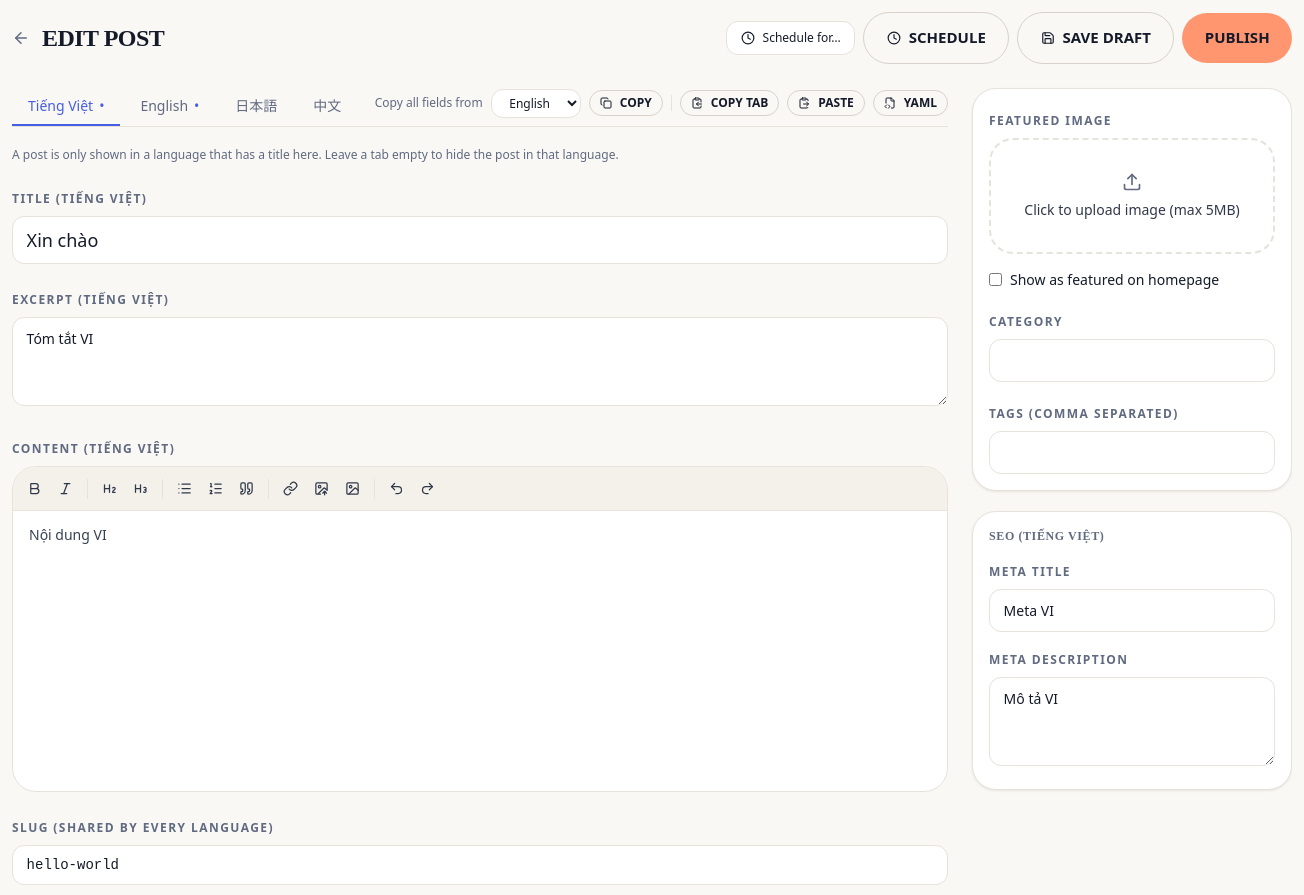
PostEditor clipboard copy/paste › pastes the 5 fields into another tab in one action
This screenshot has width=1304, height=895.
Expected: the field labelled "Title (Tiếng Việt)" holds "Xin chào", [12, 216, 948, 264]
Click the button "English•".
click(170, 107)  # box [124, 88, 215, 126]
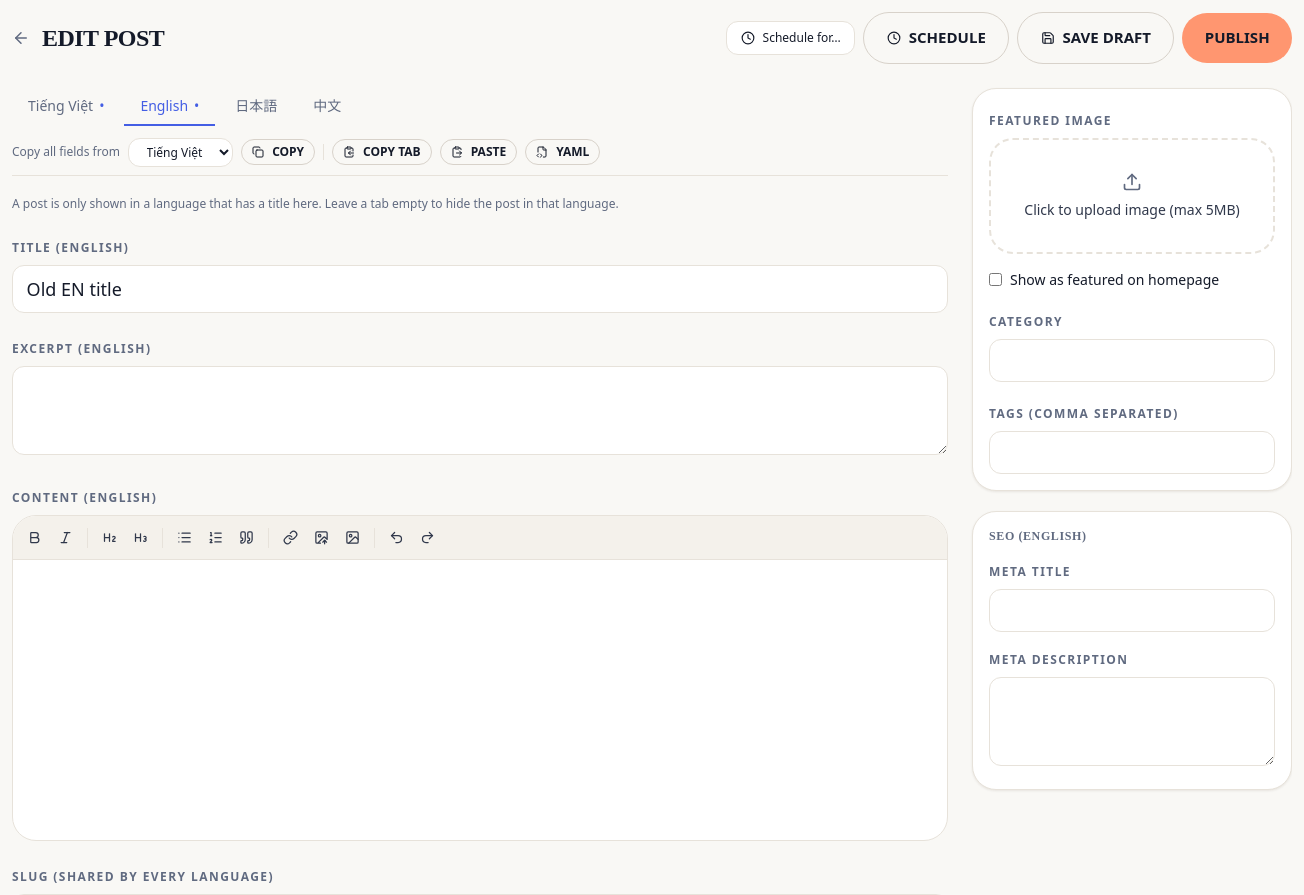
Click the button "PASTE".
click(478, 152)  # box [440, 139, 517, 165]
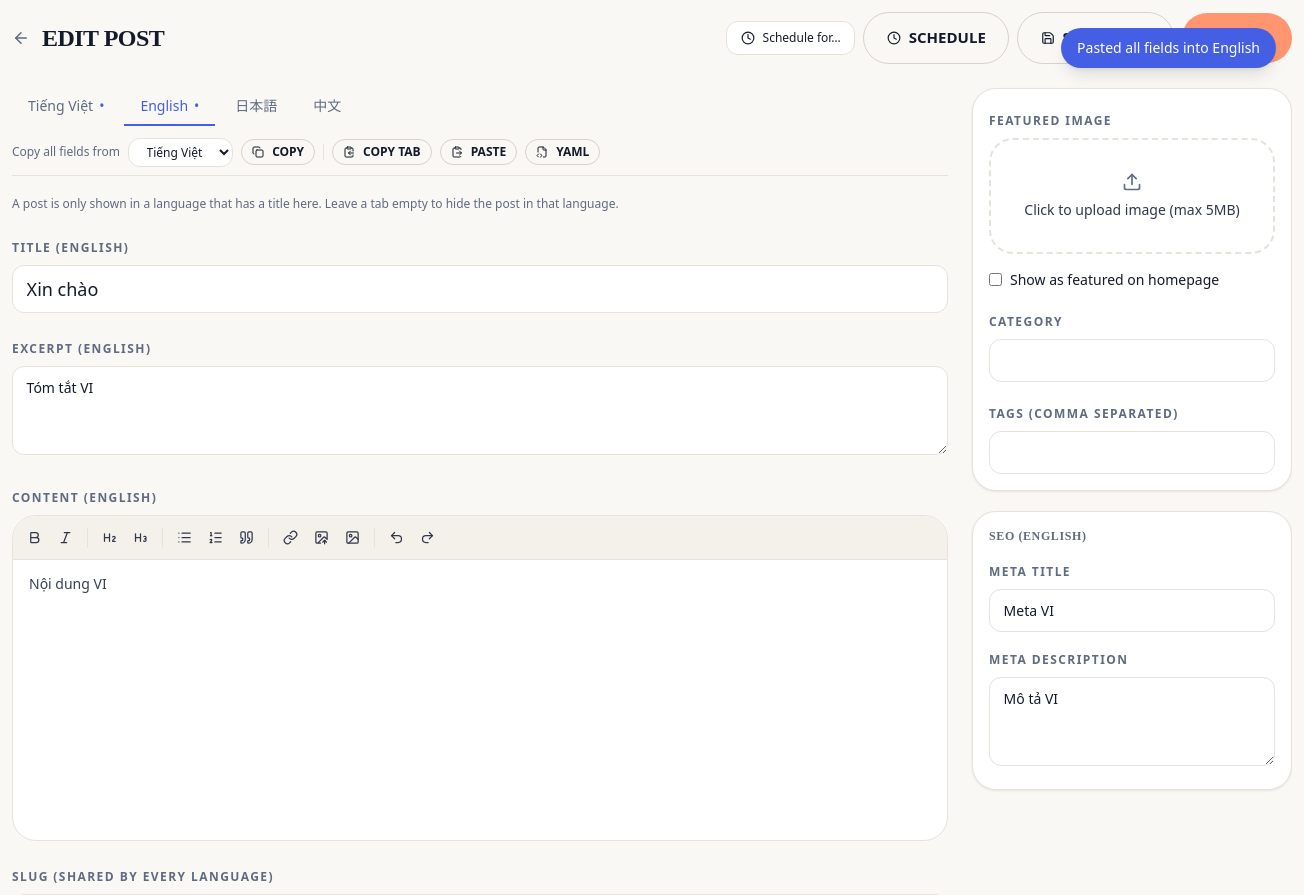
Now the text "Pasted all fields into English" is shown, box [1061, 28, 1276, 68]
Now the field labelled "Title (English)" holds "Xin chào", box [12, 265, 948, 312]
Now the field labelled "Nội dung VI" is shown, box [29, 574, 107, 593]
